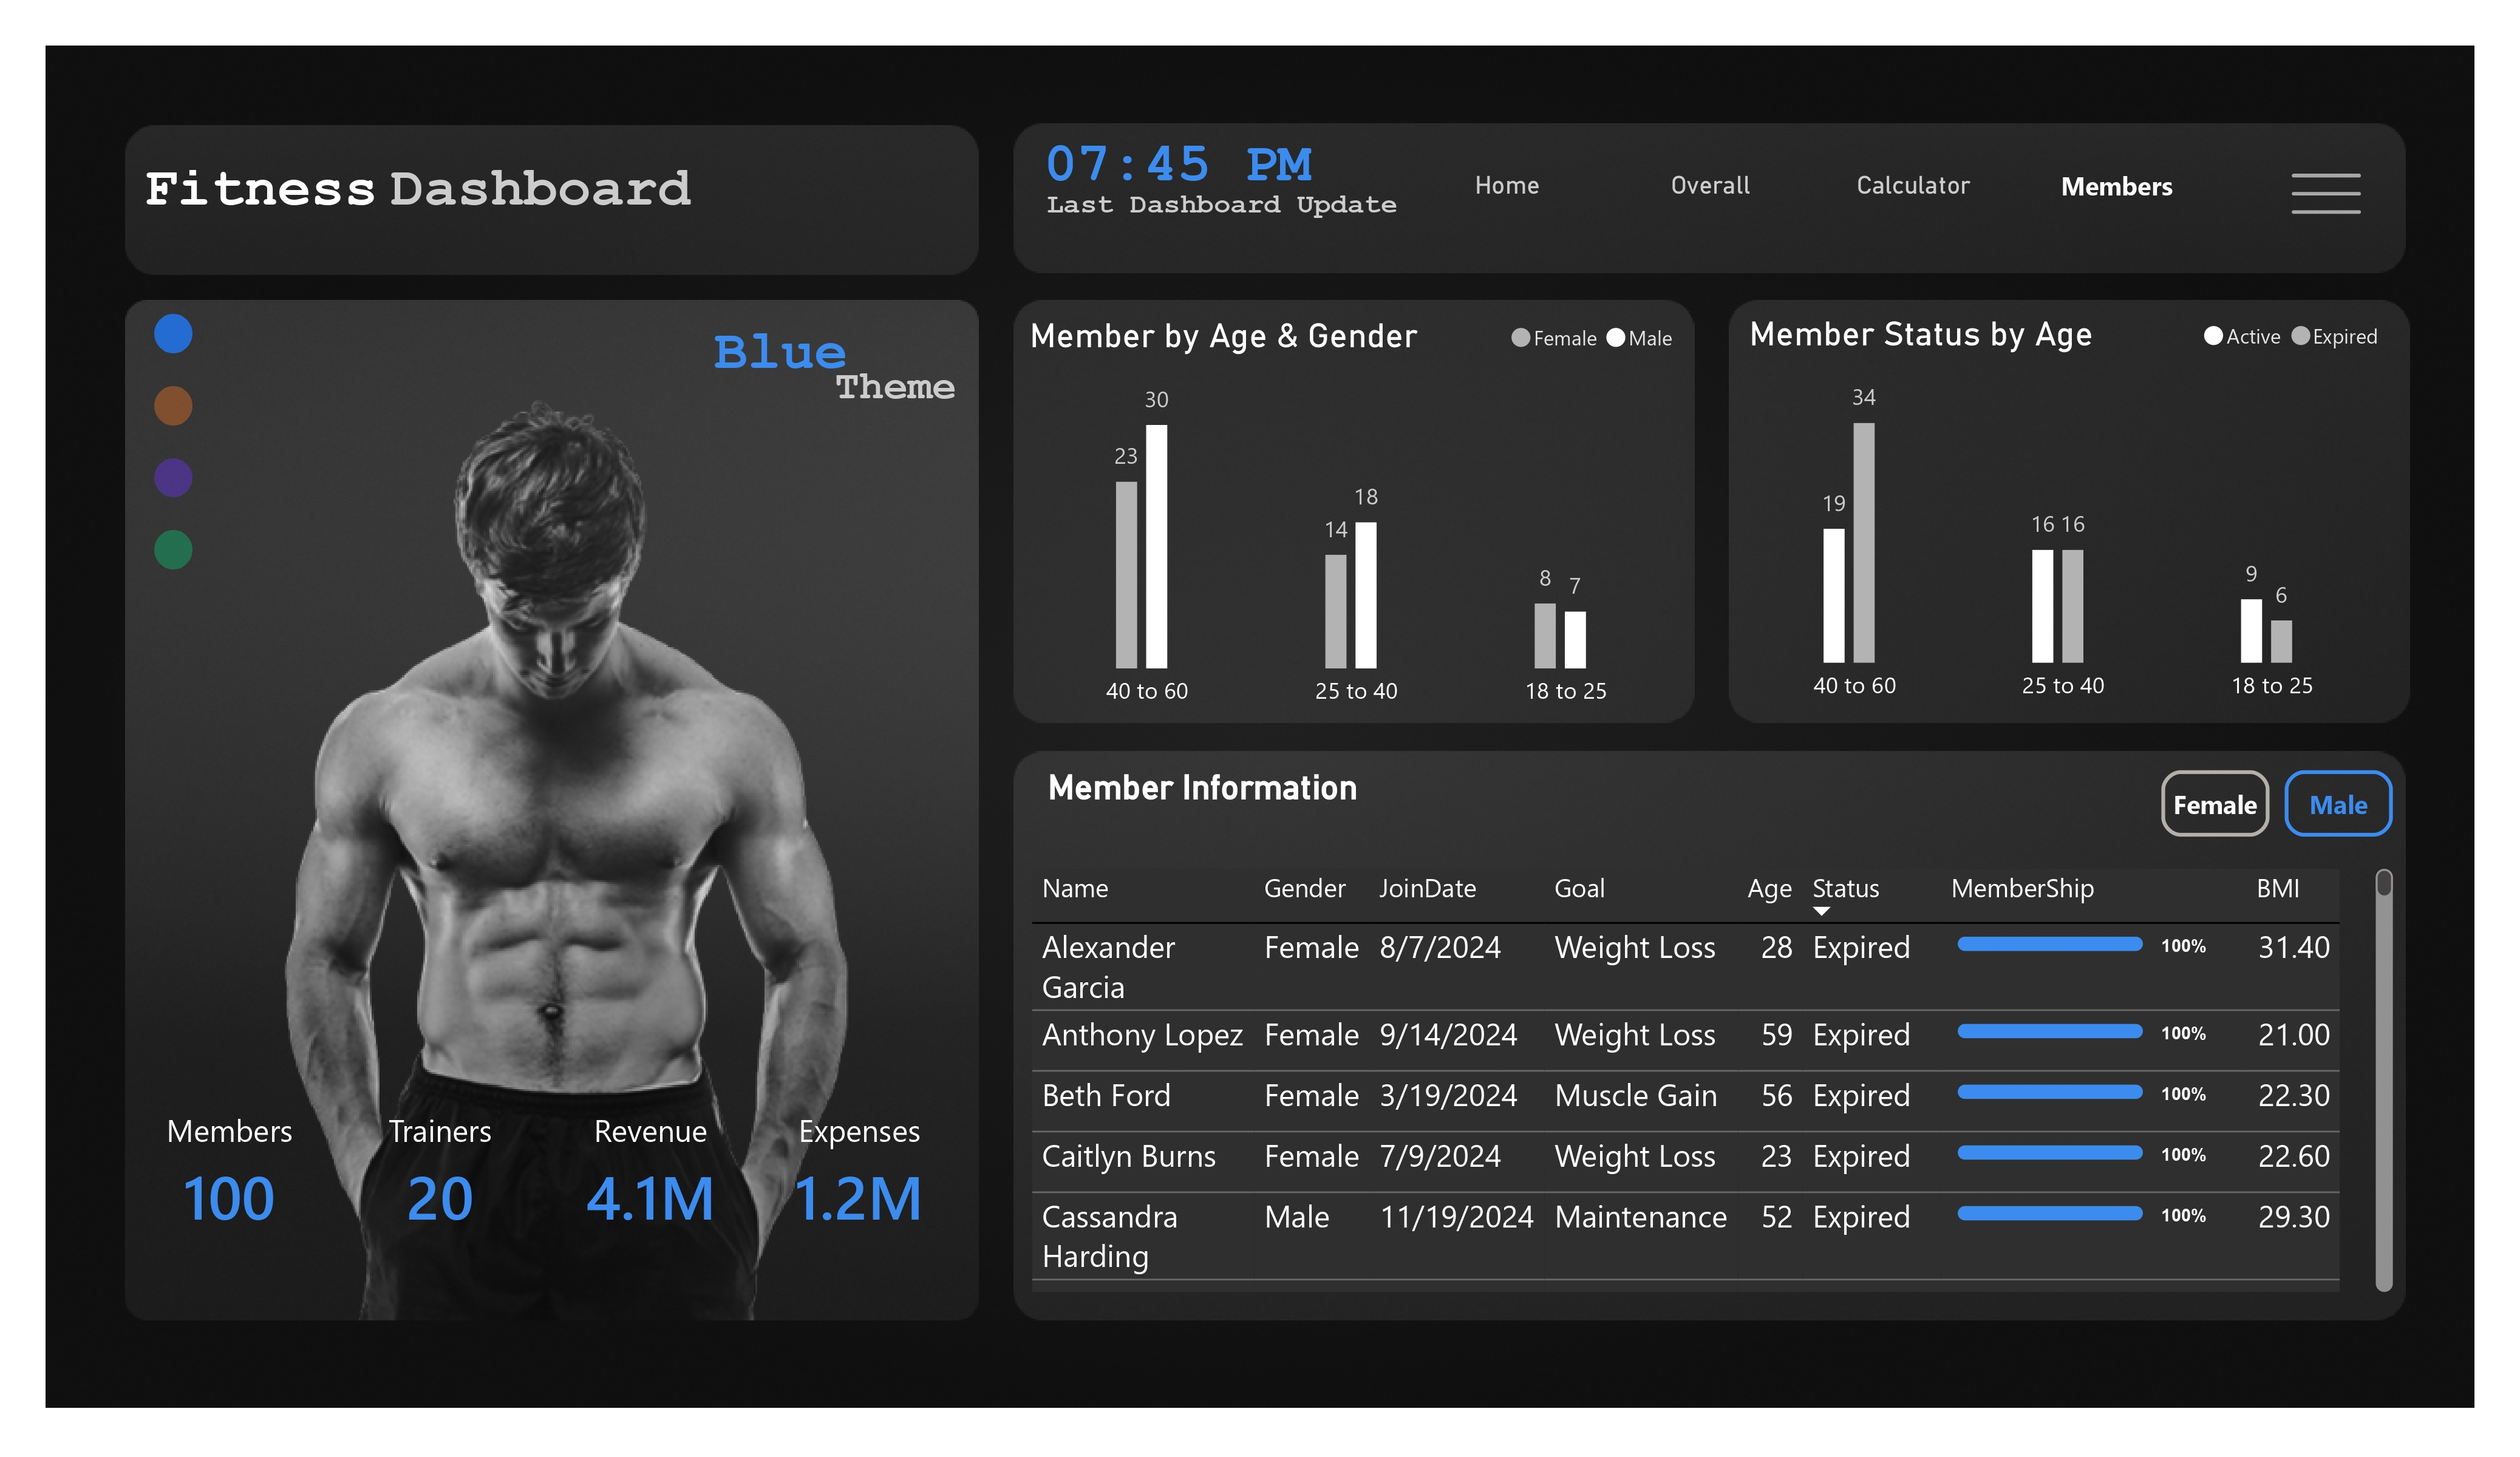

What the dashboard file says about the page in this screenshot:
{"tool":"powerbi","page":{"name":"Members","canvas":[1280,720],"ordinal":3},"visuals":[{"type":"tableEx","fields":{"Values":["Users.UserName","Users.Gender","Users.JoinDate","Users.Goal","Sum(Users.Age)","Users.Status","_Measures.SVG_BarChart1","Sum(Users.BMI)"]},"box":[513.8,429.5,728.5,232.2],"z":0},{"type":"shape","box":[46.1,58.2,135.2,35],"z":1000},{"type":"shape","box":[176.6,58.2,168.6,35],"z":2000},{"type":"shape","box":[523.3,44.5,146.3,35],"z":3000},{"type":"shape","box":[523.3,66.8,194.1,35],"z":4000},{"type":"image","box":[1164.3,55.7,77.9,46.1],"z":5000},{"type":"pageNavigator","box":[717.4,52.5,429.5,42.9],"z":6000},{"type":"shape","box":[509,372.2,202,38.2],"z":7000},{"type":"advancedSlicerVisual","fields":{"Values":["Slider_Gender.Gender"]},"box":[1110.2,377,132,44.5],"z":8000},{"type":"clusteredColumnChart","fields":{"Y":["_Measures.Users_Count"],"Category":["Users.Age Category"],"Series":["Users.Gender"]},"box":[515.4,135.2,351.5,222.7],"z":9000},{"type":"shape","box":[497.9,135.2,246.5,35],"z":10000},{"type":"clusteredColumnChart","fields":{"Y":["_Measures.Users_Count"],"Category":["Users.Age Category"],"Series":["Users.Status"]},"box":[887.6,133.6,351.5,221.1],"z":11000},{"type":"shape","box":[865.3,133.6,246.5,35],"z":12000},{"type":"cardVisual","fields":{"Data":["_Measures.Users_Count"]},"box":[32.1,548,130,90.7],"z":13000},{"type":"cardVisual","fields":{"Data":["Count(Users.Trainer Name)"]},"box":[143,548,130,90.7],"z":14000},{"type":"cardVisual","fields":{"Data":["_Measures.Revenue"]},"box":[253.9,548,130,90.7],"z":15000},{"type":"cardVisual","fields":{"Data":["_Measures.Expenses"]},"box":[364.7,548,128.5,90.7],"z":16000},{"type":"advancedSlicerVisual","fields":{"Values":["ColorCodes.Icon"]},"box":[46.1,132,42.9,157.5],"z":17000},{"type":"shape","box":[313.7,143.6,147.4,34],"z":18000},{"type":"shape","box":[287.2,162.5,194.6,34],"z":19000}]}

Visuals, with their boxes on the page's 1280x720 design canvas (x1, y1, x2, y2). These are canvas units, not pixel positions in the 2520x1457 screenshot, which may show the page scaled, cropped or inside an application window:
tableEx - Users.UserName x Users.Gender: crop(514, 430, 1242, 662)
shape: crop(46, 58, 181, 93)
shape: crop(177, 58, 345, 93)
shape: crop(523, 44, 670, 80)
shape: crop(523, 67, 717, 102)
image: crop(1164, 56, 1242, 102)
pageNavigator: crop(717, 52, 1147, 95)
shape: crop(509, 372, 711, 410)
advancedSlicerVisual - Slider_Gender.Gender: crop(1110, 377, 1242, 422)
clusteredColumnChart - _Measures.Users_Count x Users.Age Category: crop(515, 135, 867, 358)
shape: crop(498, 135, 744, 170)
clusteredColumnChart - _Measures.Users_Count x Users.Age Category: crop(888, 134, 1239, 355)
shape: crop(865, 134, 1112, 169)
cardVisual - _Measures.Users_Count: crop(32, 548, 162, 639)
cardVisual - Count(Users.Trainer Name): crop(143, 548, 273, 639)
cardVisual - _Measures.Revenue: crop(254, 548, 384, 639)
cardVisual - _Measures.Expenses: crop(365, 548, 493, 639)
advancedSlicerVisual - ColorCodes.Icon: crop(46, 132, 89, 290)
shape: crop(314, 144, 461, 178)
shape: crop(287, 162, 482, 196)
